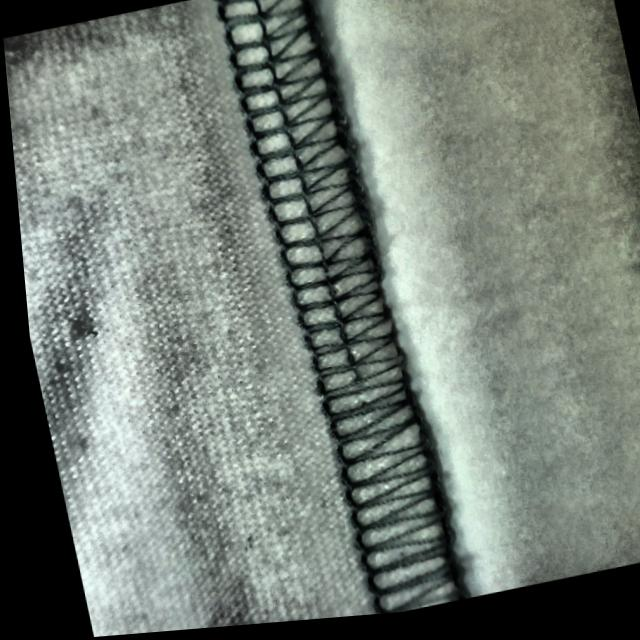Stitch: (254, 157, 453, 613)
